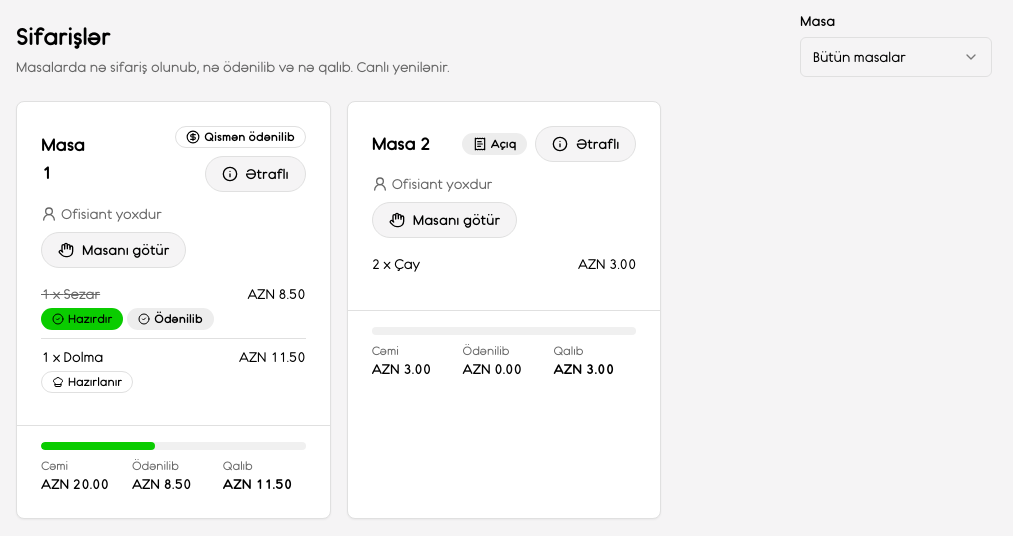
Test: OrdersPage (#143) › narrows the screen to one table
Expected: the element "Masa 2" is shown, [347,101,661,519]
Click the dropdown labelled "masa" at (896, 57), box [800,37,992,77]
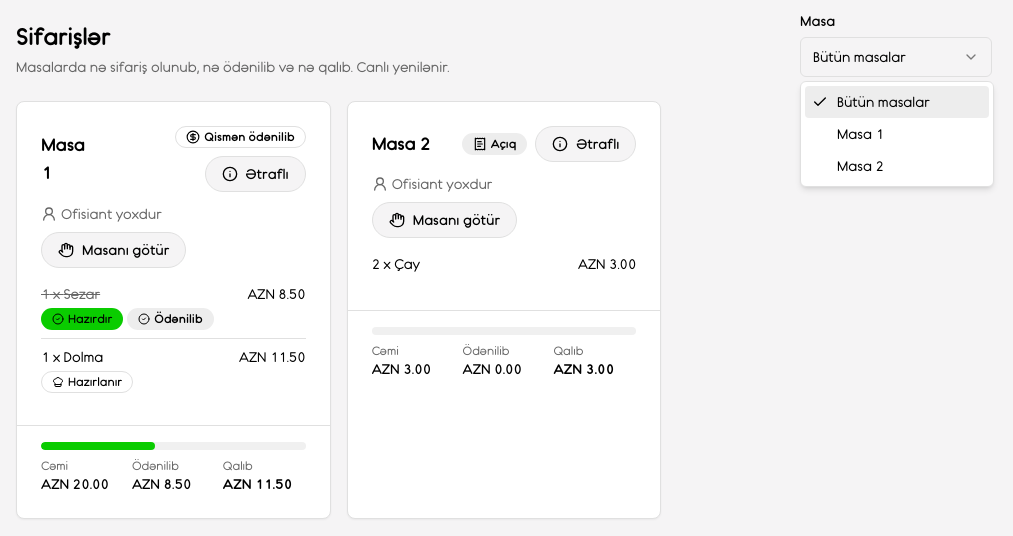
Click the option "Masa 2" at (860, 166), box [837,158,884,174]
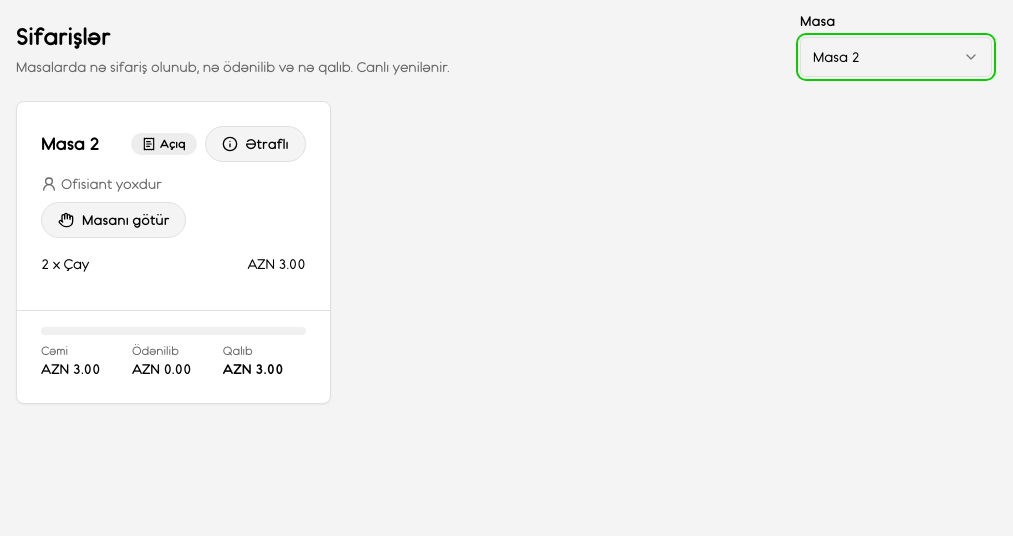
Expected: the element "Masa 2" is shown, [16,101,331,404]
Expected: the heading "Masa 1" is gone
